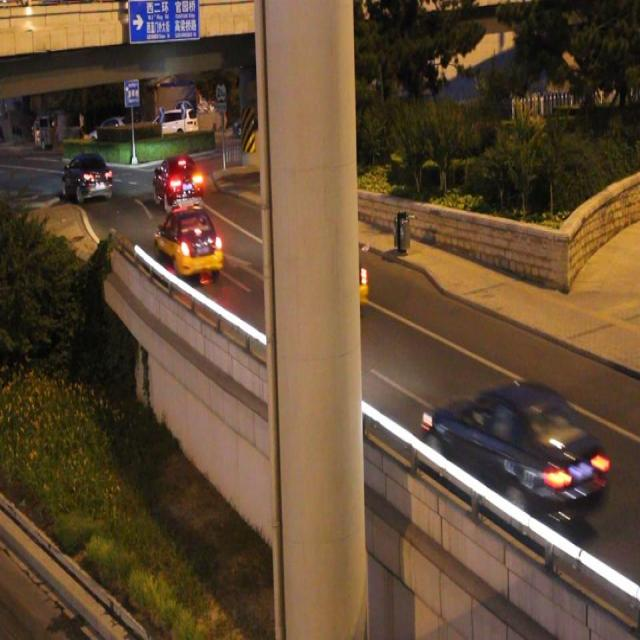car: (422, 378, 608, 526), (286, 229, 366, 316), (155, 202, 222, 280), (152, 155, 202, 206)
